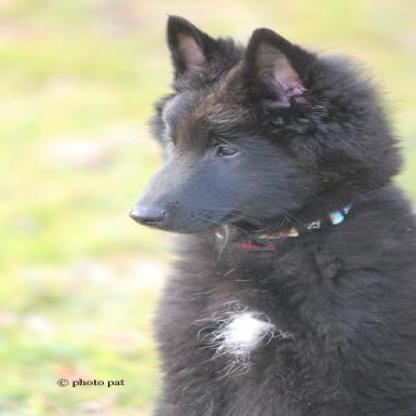groenendael: (102, 0, 412, 413)
